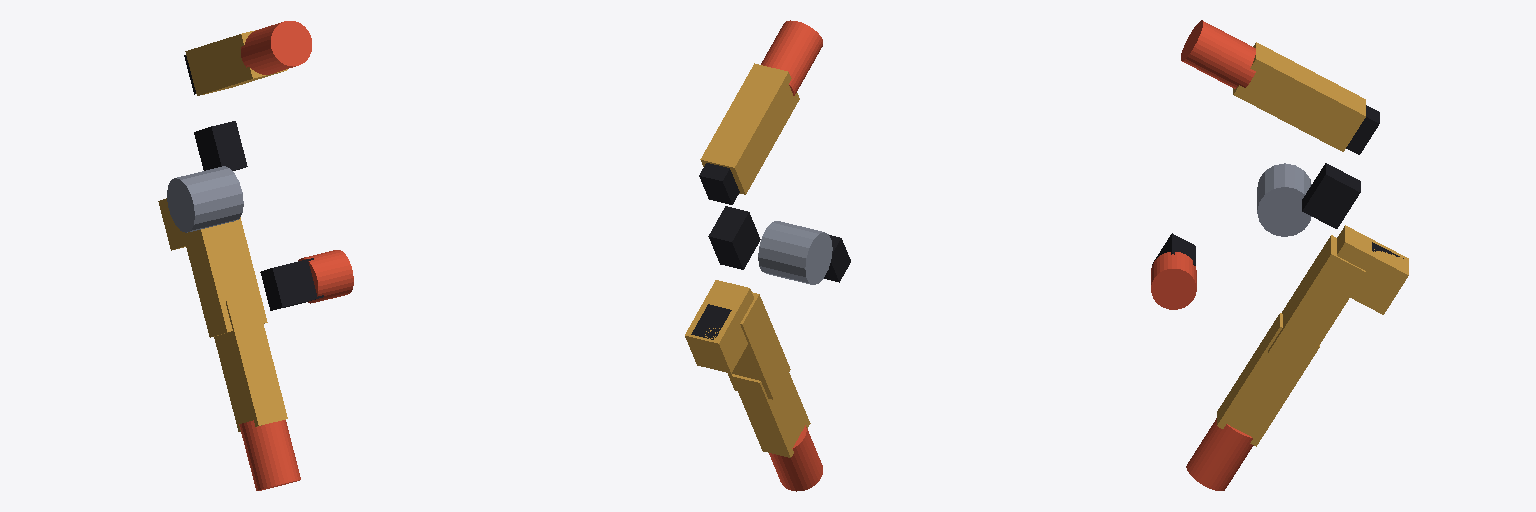
The robot description file, URDF, robot "g0025_c04":
<robot name="g0025_c04">
  <link name="palm">
    <visual name="palm_palm1">
      <origin xyz="0 0 0" rpy="0 0 0" />
      <geometry>
        <mesh filename="palm_palm1.obj" />
      </geometry>
      <material name="palm_palm1_mat">
        <color rgba="0.55 0.57 0.62 1" />
      </material>
    </visual>
    <collision>
      <origin xyz="0 0 0" rpy="0 0 0" />
      <geometry>
        <mesh filename="palm_palm1.obj" />
      </geometry>
    </collision>
    <visual name="palm_mount2">
      <origin xyz="0 0 0" rpy="0 0 0" />
      <geometry>
        <mesh filename="palm_mount2.obj" />
      </geometry>
      <material name="palm_mount2_mat">
        <color rgba="0.55 0.57 0.62 1" />
      </material>
    </visual>
    <collision>
      <origin xyz="0 0 0" rpy="0 0 0" />
      <geometry>
        <mesh filename="palm_mount2.obj" />
      </geometry>
    </collision>
    <visual name="palm_hinge3">
      <origin xyz="0 0.0335705081 0.0181458256" rpy="-1.57079633 0.523598776 1.57079633" />
      <geometry>
        <box size="0.029 0.034 0.02" />
      </geometry>
      <material name="palm_hinge3_mat">
        <color rgba="0.15 0.15 0.17 1" />
      </material>
    </visual>
    <collision>
      <origin xyz="0 0.0335705081 0.0181458256" rpy="-1.57079633 0.523598776 1.57079633" />
      <geometry>
        <box size="0.029 0.034 0.02" />
      </geometry>
    </collision>
    <visual name="palm_motor4">
      <origin xyz="-0.007 -0.08 -0.04" rpy="1.06057524e-16 -1.04719755 1.57079633" />
      <geometry>
        <box size="0.029 0.034 0.02" />
      </geometry>
      <material name="palm_motor4_mat">
        <color rgba="0.15 0.15 0.17 1" />
      </material>
    </visual>
    <collision>
      <origin xyz="-0.007 -0.08 -0.04" rpy="1.06057524e-16 -1.04719755 1.57079633" />
      <geometry>
        <box size="0.029 0.034 0.02" />
      </geometry>
    </collision>
    <visual name="palm_motor5">
      <origin xyz="-0.0045 0.0666996732 -0.0467548095" rpy="1.57079633 -0.523598776 -1.57079633" />
      <geometry>
        <box size="0.029 0.034 0.02" />
      </geometry>
      <material name="palm_motor5_mat">
        <color rgba="0.15 0.15 0.17 1" />
      </material>
    </visual>
    <collision>
      <origin xyz="-0.0045 0.0666996732 -0.0467548095" rpy="1.57079633 -0.523598776 -1.57079633" />
      <geometry>
        <box size="0.029 0.034 0.02" />
      </geometry>
    </collision>
    <inertial>
      <origin xyz="0 0.00144846972 -0.0222239739" rpy="-1.57079633 -0.0343298126 -1.57079633" />
      <mass value="0.602688117" />
      <inertia ixx="0.000469766501" ixy="0" ixz="0" iyy="0.00125162413" iyz="0" izz="0.00166353258" />
    </inertial>
  </link>
  <link name="palm0">
    <visual name="palm0_palm1">
      <origin xyz="0 0 0" rpy="0 0 0" />
      <geometry>
        <mesh filename="palm0_palm1.obj" />
      </geometry>
      <material name="palm0_palm1_mat">
        <color rgba="0.55 0.57 0.62 1" />
      </material>
    </visual>
    <collision>
      <origin xyz="0 0 0" rpy="0 0 0" />
      <geometry>
        <mesh filename="palm0_palm1.obj" />
      </geometry>
    </collision>
    <visual name="palm0_motor2">
      <origin xyz="0 0.00917468245 0.0516089838" rpy="-1.57079633 -1.04719755 1.57079633" />
      <geometry>
        <box size="0.029 0.034 0.02" />
      </geometry>
      <material name="palm0_motor2_mat">
        <color rgba="0.15 0.15 0.17 1" />
      </material>
    </visual>
    <collision>
      <origin xyz="0 0.00917468245 0.0516089838" rpy="-1.57079633 -1.04719755 1.57079633" />
      <geometry>
        <box size="0.029 0.034 0.02" />
      </geometry>
    </collision>
    <inertial>
      <origin xyz="-3.35031518e-19 0.00801870242 0.0302908678" rpy="1.57079633 0.809470959 1.57079633" />
      <mass value="0.18434928" />
      <inertia ixx="5.84072882e-05" ixy="0" ixz="0" iyy="0.000112506449" iyz="0" izz="0.000153216207" />
    </inertial>
  </link>
  <link name="f0_link0">
    <visual name="f0_link0_link1">
      <origin xyz="0.019 0 -6.9388939e-18" rpy="-1.57079633 -0 -1.57079633" />
      <geometry>
        <cylinder radius="0.0165" length="0.029" />
      </geometry>
      <material name="f0_link0_link1_mat">
        <color rgba="0.85 0.35 0.25 1" />
      </material>
    </visual>
    <collision>
      <origin xyz="0.019 0 -6.9388939e-18" rpy="-1.57079633 -0 -1.57079633" />
      <geometry>
        <cylinder radius="0.0165" length="0.029" />
      </geometry>
    </collision>
    <inertial>
      <origin xyz="0.019 0 0" rpy="0 0 0" />
      <mass value="0.0763354" />
      <inertia ixx="9.49466441e-06" ixy="0" ixz="0" iyy="2.24143997e-05" iyz="0" izz="2.24143997e-05" />
    </inertial>
  </link>
  <link name="f1_link0">
    <visual name="f1_link0_link1">
      <origin xyz="-0.00625 0 -0.0165" rpy="0 4.06369831e-17 0" />
      <geometry>
        <box size="0.0365 0.029 0.053" />
      </geometry>
      <material name="f1_link0_link1_mat">
        <color rgba="0.80 0.62 0.30 1" />
      </material>
    </visual>
    <collision>
      <origin xyz="-0.00625 0 -0.0165" rpy="0 4.06369831e-17 0" />
      <geometry>
        <box size="0.0365 0.029 0.053" />
      </geometry>
    </collision>
    <inertial>
      <origin xyz="-0.00625 0 -0.0165" rpy="0 0 0" />
      <mass value="0.098175875" />
      <inertia ixx="2.98618286e-05" ixy="0" ixz="0" iyy="3.38809035e-05" iyz="0" izz="1.778006e-05" />
    </inertial>
  </link>
  <link name="f1_link1">
    <visual name="f1_link1_link1">
      <origin xyz="0.03375 0 6.9388939e-18" rpy="0 4.06369831e-17 0" />
      <geometry>
        <box size="0.0915 0.033 0.029" />
      </geometry>
      <material name="f1_link1_link1_mat">
        <color rgba="0.80 0.62 0.30 1" />
      </material>
    </visual>
    <collision>
      <origin xyz="0.03375 0 6.9388939e-18" rpy="0 4.06369831e-17 0" />
      <geometry>
        <box size="0.0915 0.033 0.029" />
      </geometry>
    </collision>
    <inertial>
      <origin xyz="0.03375 0 0" rpy="0 0 0" />
      <mass value="0.153239625" />
      <inertia ixx="2.46460397e-05" ixy="0" ixz="0" iyy="0.000117652915" iyz="0" izz="0.000120819867" />
    </inertial>
  </link>
  <link name="f1_link2">
    <visual name="f1_link2_link1">
      <origin xyz="0.03375 0 -1.38777878e-17" rpy="0 4.06369831e-17 0" />
      <geometry>
        <box size="0.0915 0.024 0.033" />
      </geometry>
      <material name="f1_link2_link1_mat">
        <color rgba="0.80 0.62 0.30 1" />
      </material>
    </visual>
    <collision>
      <origin xyz="0.03375 0 -1.38777878e-17" rpy="0 4.06369831e-17 0" />
      <geometry>
        <box size="0.0915 0.024 0.033" />
      </geometry>
    </collision>
    <inertial>
      <origin xyz="0.03375 0 0" rpy="0 0 0" />
      <mass value="0.126819" />
      <inertia ixx="1.75961363e-05" ixy="0" ixz="0" iyy="9.99888553e-05" iyz="0" izz="9.45673431e-05" />
    </inertial>
  </link>
  <link name="f1_link3">
    <visual name="f1_link3_link1">
      <origin xyz="0.029 0 1.04083409e-17" rpy="-1.57079633 -0 -1.57079633" />
      <geometry>
        <cylinder radius="0.0165" length="0.049" />
      </geometry>
      <material name="f1_link3_link1_mat">
        <color rgba="0.85 0.35 0.25 1" />
      </material>
    </visual>
    <collision>
      <origin xyz="0.029 0 1.04083409e-17" rpy="-1.57079633 -0 -1.57079633" />
      <geometry>
        <cylinder radius="0.0165" length="0.049" />
      </geometry>
    </collision>
    <inertial>
      <origin xyz="0.029 0 0" rpy="0 0 0" />
      <mass value="0.106270851" />
      <inertia ixx="1.35696277e-05" ixy="0" ixz="0" iyy="5.30015704e-05" iyz="0" izz="5.30015704e-05" />
    </inertial>
  </link>
  <link name="f2_link0">
    <visual name="f2_link0_link1">
      <origin xyz="0.03375 0 0" rpy="0 7.03853194e-17 0" />
      <geometry>
        <box size="0.0915 0.029 0.033" />
      </geometry>
      <material name="f2_link0_link1_mat">
        <color rgba="0.80 0.62 0.30 1" />
      </material>
    </visual>
    <collision>
      <origin xyz="0.03375 0 0" rpy="0 7.03853194e-17 0" />
      <geometry>
        <box size="0.0915 0.029 0.033" />
      </geometry>
    </collision>
    <inertial>
      <origin xyz="0.03375 0 0" rpy="0 0 0" />
      <mass value="0.153239625" />
      <inertia ixx="2.46460397e-05" ixy="0" ixz="0" iyy="0.000120819867" iyz="0" izz="0.000117652915" />
    </inertial>
  </link>
  <link name="f2_link1">
    <visual name="f2_link1_link1">
      <origin xyz="0.029 0 -6.9388939e-18" rpy="-1.57079633 -0 -1.57079633" />
      <geometry>
        <cylinder radius="0.0165" length="0.049" />
      </geometry>
      <material name="f2_link1_link1_mat">
        <color rgba="0.85 0.35 0.25 1" />
      </material>
    </visual>
    <collision>
      <origin xyz="0.029 0 -6.9388939e-18" rpy="-1.57079633 -0 -1.57079633" />
      <geometry>
        <cylinder radius="0.0165" length="0.049" />
      </geometry>
    </collision>
    <inertial>
      <origin xyz="0.029 0 0" rpy="0 0 0" />
      <mass value="0.106270851" />
      <inertia ixx="1.35696277e-05" ixy="0" ixz="0" iyy="5.30015704e-05" iyz="0" izz="5.30015704e-05" />
    </inertial>
  </link>
  <joint name="palm0_joint" type="revolute">
    <parent link="palm" />
    <child link="palm0" />
    <origin xyz="0 0.0373205081 0.0246410162" rpy="0 0 0" />
    <axis xyz="0 0.866025404 -0.5" />
    <limit effort="0.5" lower="-0.523598776" upper="0.523598776" velocity="5" />
    <dynamics damping="0.0775033" friction="0" />
  </joint>
  <joint name="f0_j0" type="revolute">
    <parent link="palm" />
    <child link="f0_link0" />
    <origin xyz="0.0005 -0.08 -0.04" rpy="1.04719755 5.30287619e-17 -3.061617e-17" />
    <axis xyz="0 1 6.123234e-17" />
    <limit effort="0.5" lower="-0.523598776" upper="0.523598776" velocity="5" />
    <dynamics damping="0.0775033" friction="0" />
  </joint>
  <joint name="f1_j0" type="revolute">
    <parent link="palm" />
    <child link="f1_link0" />
    <origin xyz="-0.0045 0.04 -0.04" rpy="0 1.04719755 -1.57079633" />
    <axis xyz="0 0 1" />
    <limit effort="0.5" lower="-0.523598776" upper="1.57079633" velocity="5" />
    <dynamics damping="0.0775033" friction="0" />
  </joint>
  <joint name="f1_j1" type="revolute">
    <parent link="f1_link0" />
    <child link="f1_link1" />
    <origin xyz="0 0 0" rpy="0 0 0" />
    <axis xyz="0 1 6.123234e-17" />
    <limit effort="0.5" lower="-0.523598776" upper="0.523598776" velocity="5" />
    <dynamics damping="0.0775033" friction="0" />
  </joint>
  <joint name="f1_j2" type="revolute">
    <parent link="f1_link1" />
    <child link="f1_link2" />
    <origin xyz="0.07 0 0" rpy="0 0 0" />
    <axis xyz="0 0 1" />
    <limit effort="0.5" lower="-0.523598776" upper="1.57079633" velocity="5" />
    <dynamics damping="0.0775033" friction="0" />
  </joint>
  <joint name="f1_j3" type="revolute">
    <parent link="f1_link2" />
    <child link="f1_link3" />
    <origin xyz="0.07 0 0" rpy="0 0 0" />
    <axis xyz="0 0 1" />
    <limit effort="0.5" lower="-0.523598776" upper="1.57079633" velocity="5" />
    <dynamics damping="0.0775033" friction="0" />
  </joint>
  <joint name="f2_j0" type="revolute">
    <parent link="palm0" />
    <child link="f2_link0" />
    <origin xyz="0 0.00267949192 0.0553589838" rpy="-0 -0.523598776 -1.57079633" />
    <axis xyz="0 0 1" />
    <limit effort="0.5" lower="-0.523598776" upper="1.57079633" velocity="5" />
    <dynamics damping="0.0775033" friction="0" />
  </joint>
  <joint name="f2_j1" type="revolute">
    <parent link="f2_link0" />
    <child link="f2_link1" />
    <origin xyz="0.07 0 0" rpy="0 0 0" />
    <axis xyz="-0 -1 -6.123234e-17" />
    <limit effort="0.5" lower="-0.523598776" upper="0.523598776" velocity="5" />
    <dynamics damping="0.0775033" friction="0" />
  </joint>
</robot>

--- Render facts (derived) ---
Views: 3 orthographic renders of the robot side by side, from view 1: azimuth 30°, elevation 25°; view 2: azimuth 150°, elevation 25°; view 3: azimuth 270°, elevation 25°.
Robot: g0025_c04 — 9 links, 8 joints (8 revolute); root link palm; default pose: every joint at zero.
Links seen in each view (by area): view 1: palm, f1_link2, f1_link1, f1_link3, f2_link0, f2_link1, f0_link0, f1_link0; view 2: palm, f2_link0, f1_link2, f1_link0, f1_link1, f2_link1, f1_link3, palm0; view 3: f2_link0, palm, f1_link1, f1_link2, f1_link0, f2_link1, f1_link3, f0_link0, palm0.
Link boxes in pixels (box(x1,y1,x2,y2)): palm: box(167, 121, 323, 310); f1_link2: box(214, 294, 287, 431); f1_link1: box(183, 217, 267, 337); f1_link3: box(239, 420, 300, 490); f2_link0: box(185, 30, 287, 95); f2_link1: box(241, 21, 311, 74); f0_link0: box(298, 250, 353, 303); f1_link0: box(158, 198, 185, 250); palm: box(691, 206, 850, 339); f2_link0: box(700, 63, 799, 194); f1_link2: box(732, 373, 810, 457); f1_link0: box(685, 280, 753, 373); f1_link1: box(728, 292, 790, 399); f2_link1: box(761, 20, 822, 95); f1_link3: box(769, 425, 822, 491); palm0: box(699, 163, 739, 204); f2_link0: box(1233, 42, 1365, 151); palm: box(1152, 163, 1403, 265); f1_link1: box(1268, 235, 1365, 371); f1_link2: box(1217, 313, 1319, 446); f1_link0: box(1337, 225, 1408, 314); f2_link1: box(1181, 20, 1255, 88); f1_link3: box(1186, 418, 1253, 490); f0_link0: box(1151, 252, 1196, 309); palm0: box(1346, 105, 1379, 154).
Bounding box of the posed robot: 0.086 × 0.186 × 0.3719 m (x, y, z).
Meshes: 3 distinct files referenced, 1 mesh visuals loaded (1 OBJ); not drawn: 2 (reference not matched to a file when rendering).
